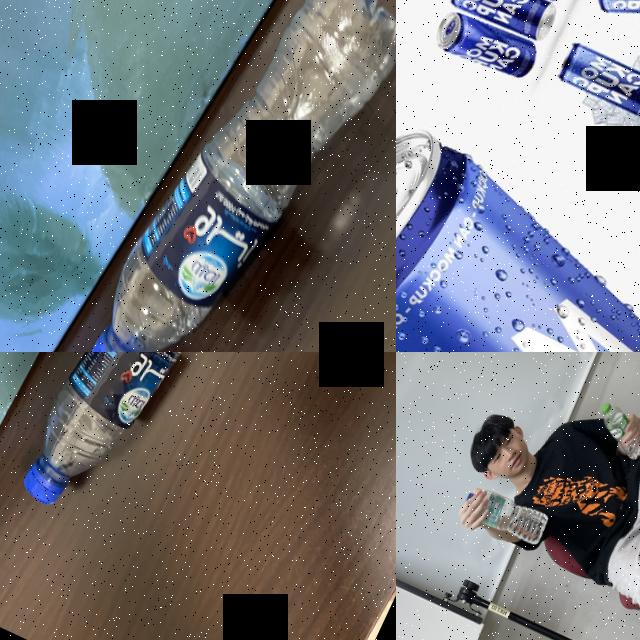bottle: (55, 0, 396, 352), (4, 352, 290, 545), (460, 479, 552, 548), (587, 401, 640, 463)
can: (396, 90, 640, 352), (429, 2, 542, 88), (554, 37, 640, 125), (445, 0, 560, 47)
